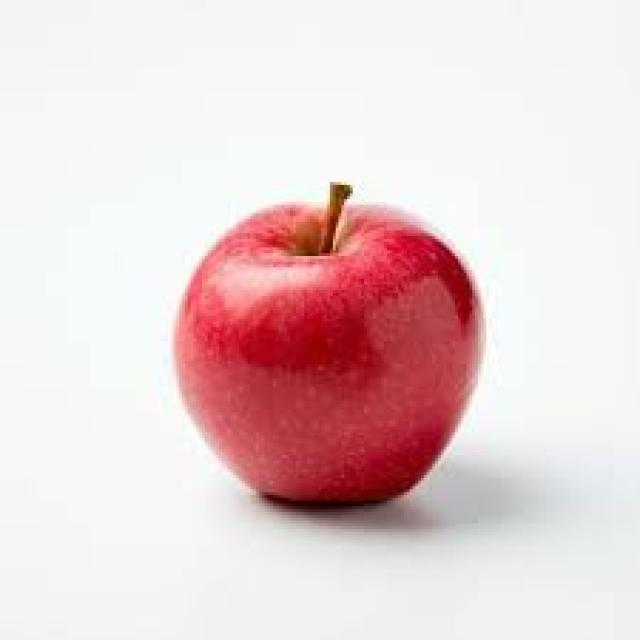apple: (173, 177, 492, 526)
